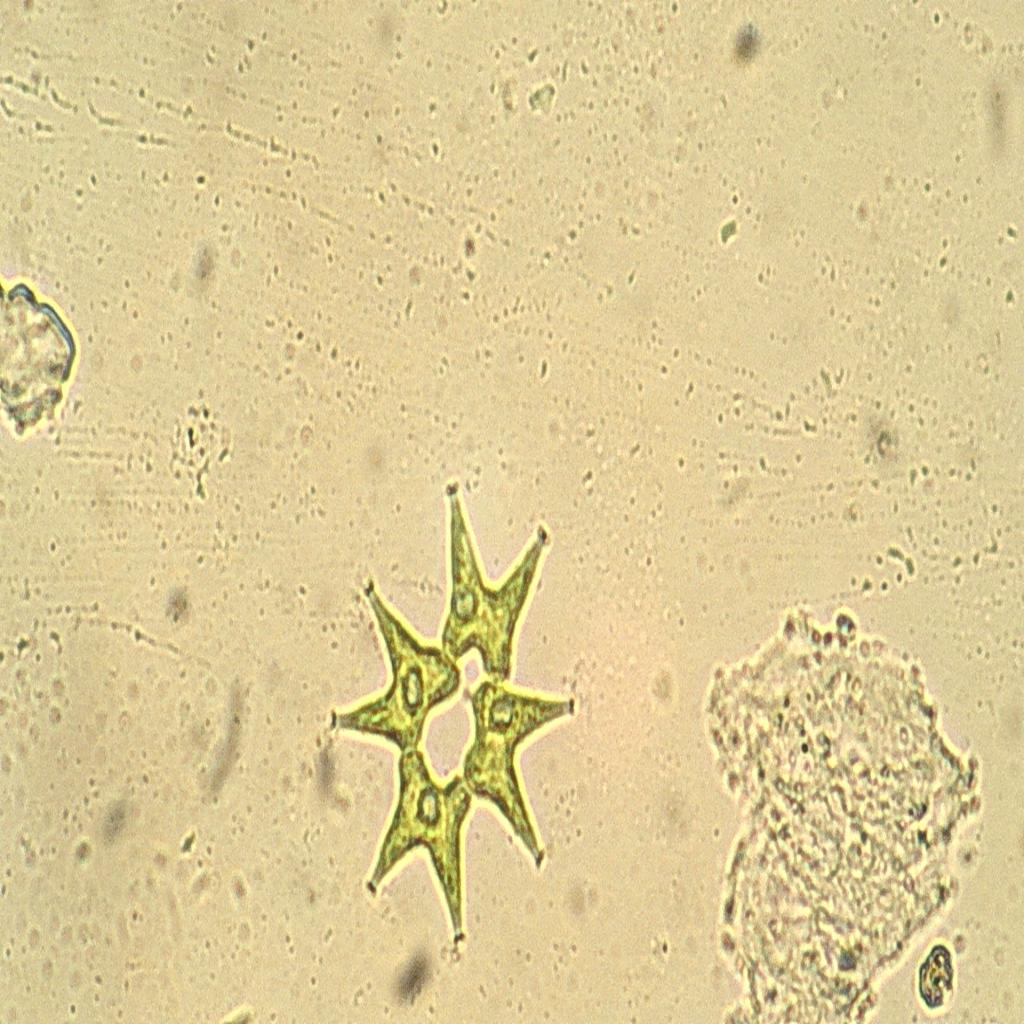Pediastrum_75FO: (313, 446, 587, 984)
